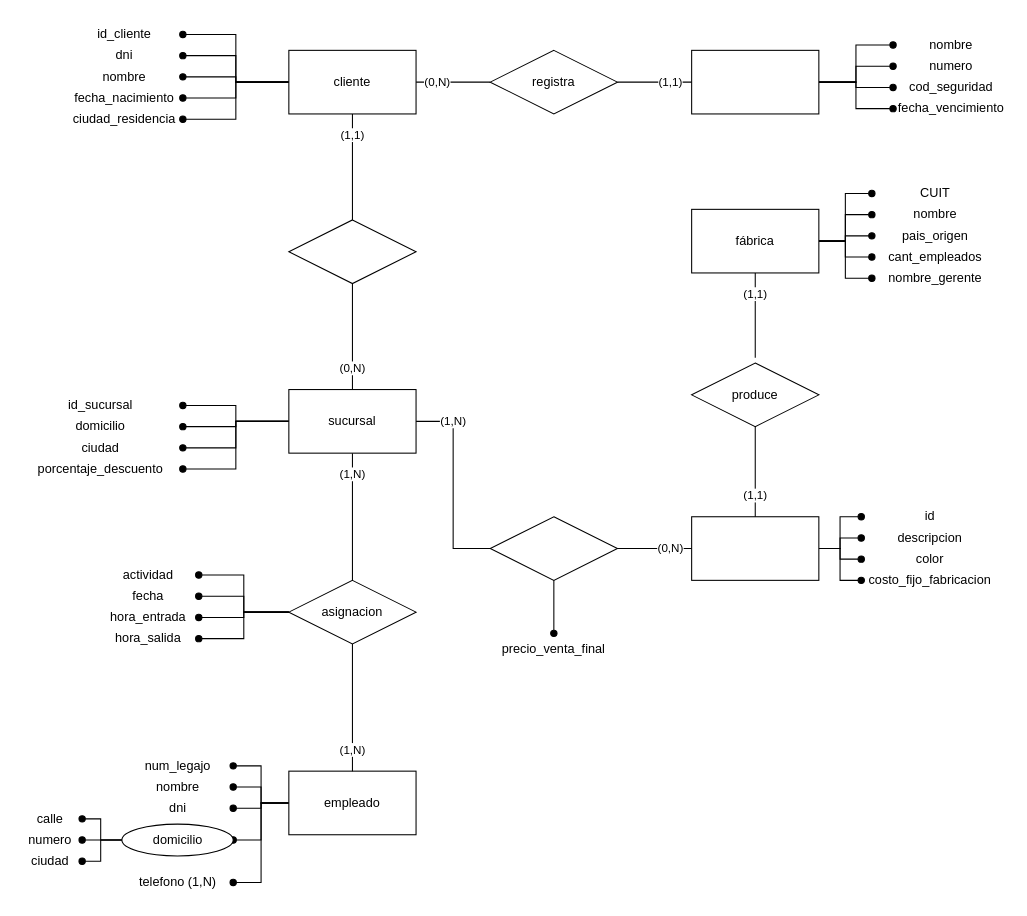
This 1027x916 diagram has some shape labels left out. The shapes that lost their labels are listed below. From the top down, each one's box as (x1, y1, x2, y2) in pixels, then its label:
(691, 49, 819, 114): tarjeta_credito
(288, 219, 416, 284): fideliza
(489, 516, 617, 580): vende
(691, 516, 819, 580): producto
